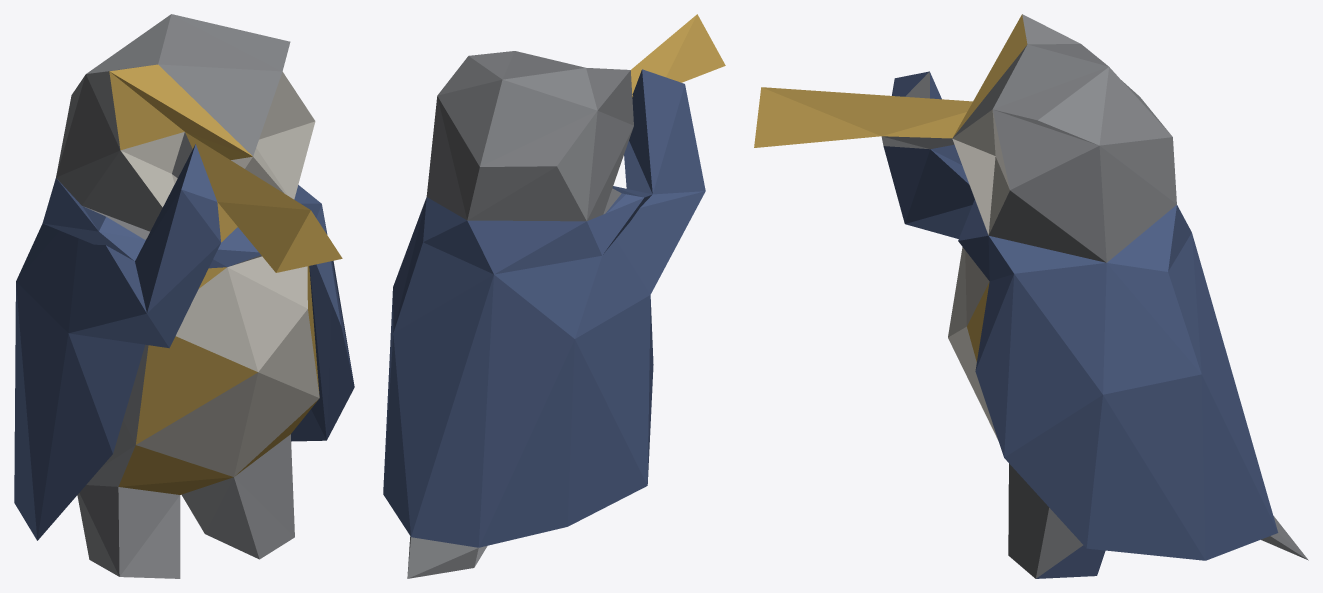
3 renders of one model, left to right at view 1: azimuth 30°, elevation 25°; view 2: azimuth 150°, elevation 25°; view 3: azimuth 270°, elevation 25°, orthographic. The views are drawn at different scales.
Visible parts, largest first — view 1: lion-200; view 2: lion-200; view 3: lion-200.
Boxes of the visible parts, x1=… form: lion-200: x1=14, y1=14, x2=354, y2=578; lion-200: x1=383, y1=14, x2=725, y2=578; lion-200: x1=754, y1=14, x2=1308, y2=578.
Bounding box in the file's own units: 0.5766 × 0.9878 × 1.01.
